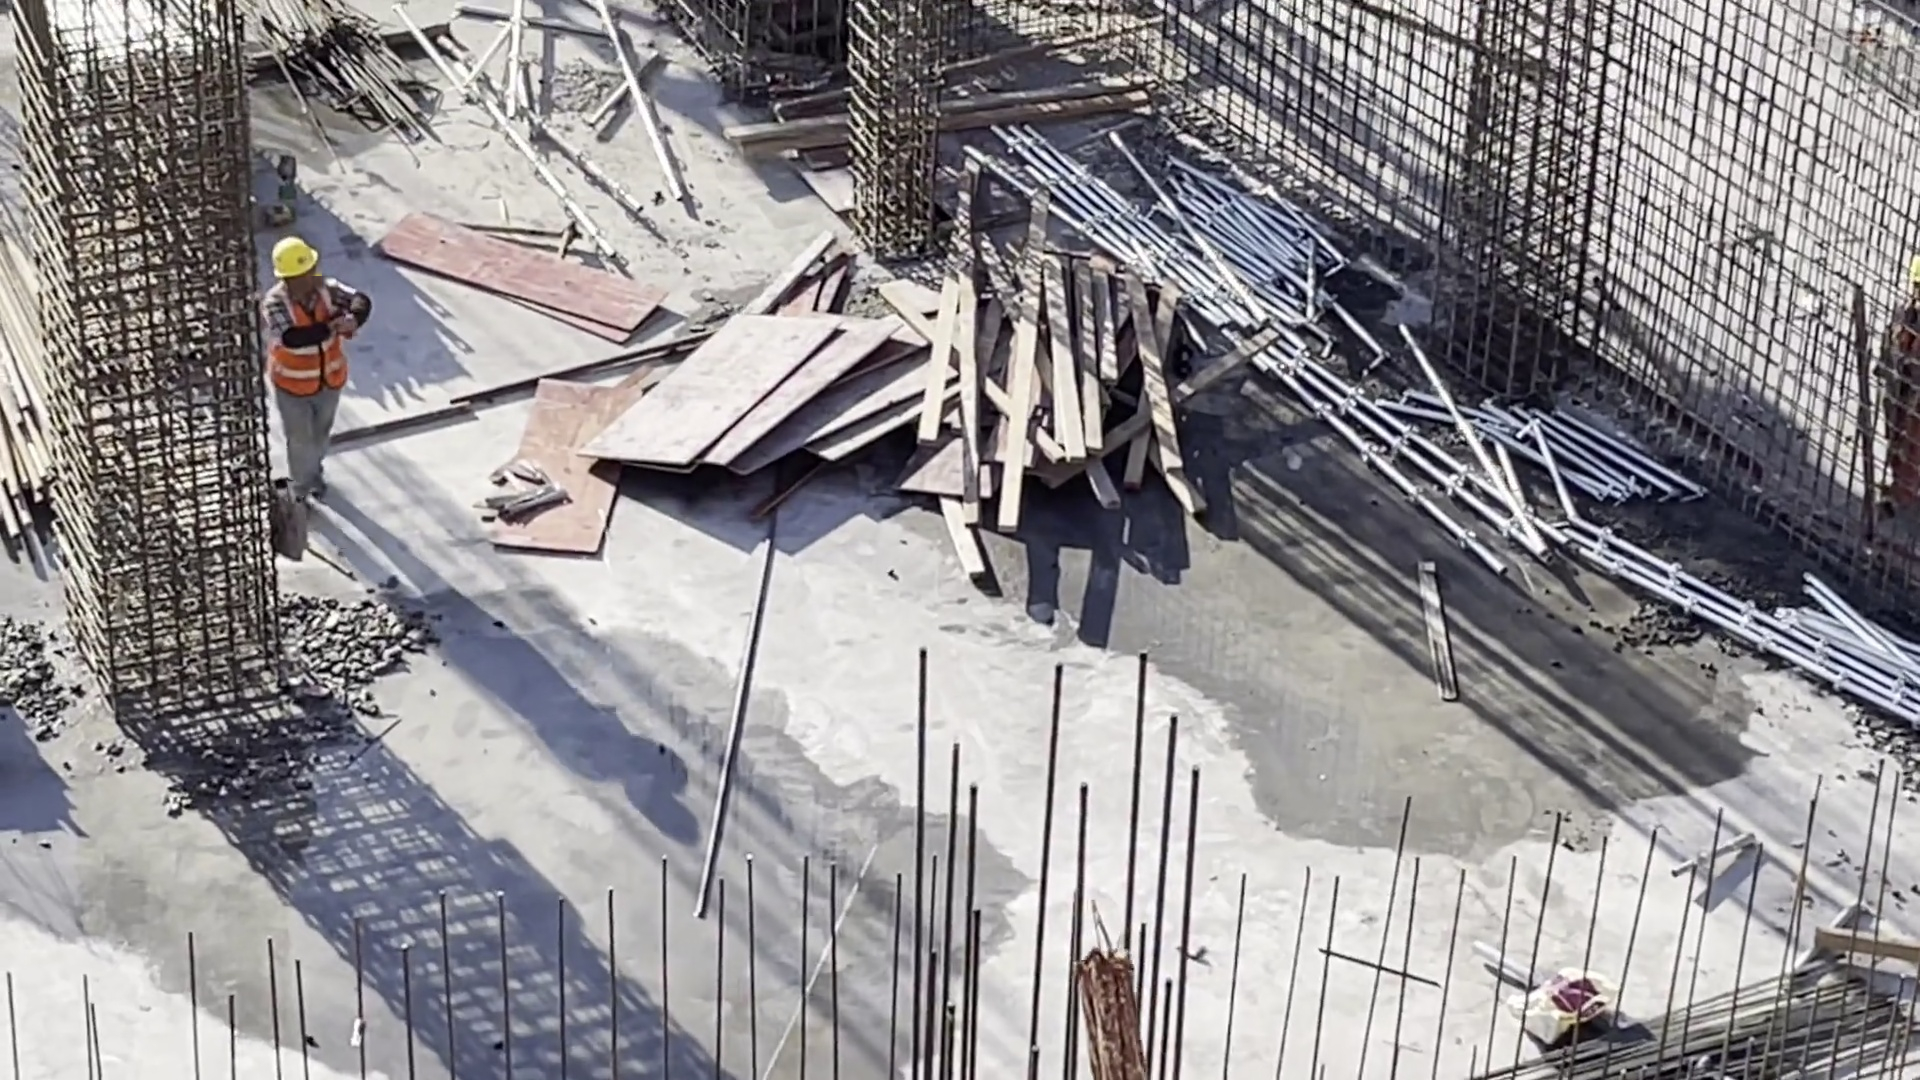board: (587, 308, 918, 492)
helmet: (256, 231, 329, 268)
person: (240, 237, 373, 494)
rebar: (1506, 957, 1891, 1080)
scaffold: (1067, 137, 1313, 343), (1421, 376, 1654, 545), (1775, 579, 1920, 709)
vest: (263, 286, 351, 394)
wood: (930, 202, 1197, 550)
